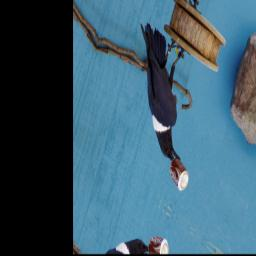Crow: (115, 12, 208, 170)
